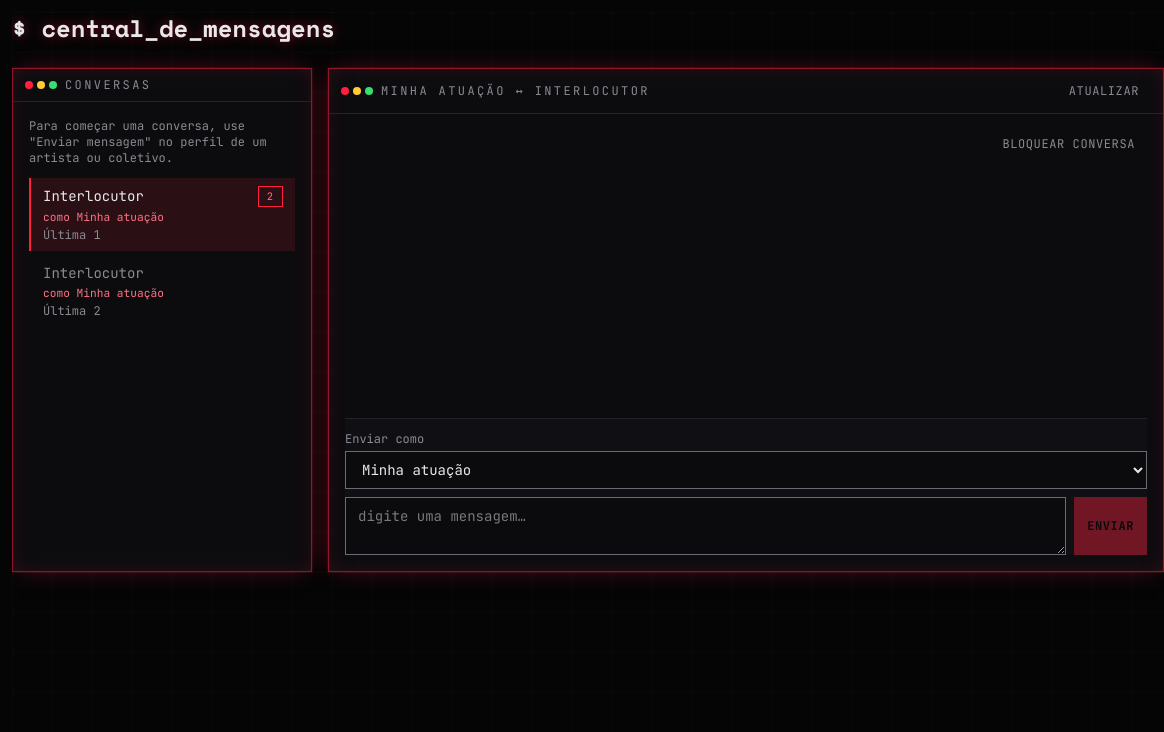
Chat › duas atuações do titular: escolhe com qual enviar
Select "Interlocutor" in the dropdown labelled "Enviar como" at (746, 470), box [345,451,1147,489]
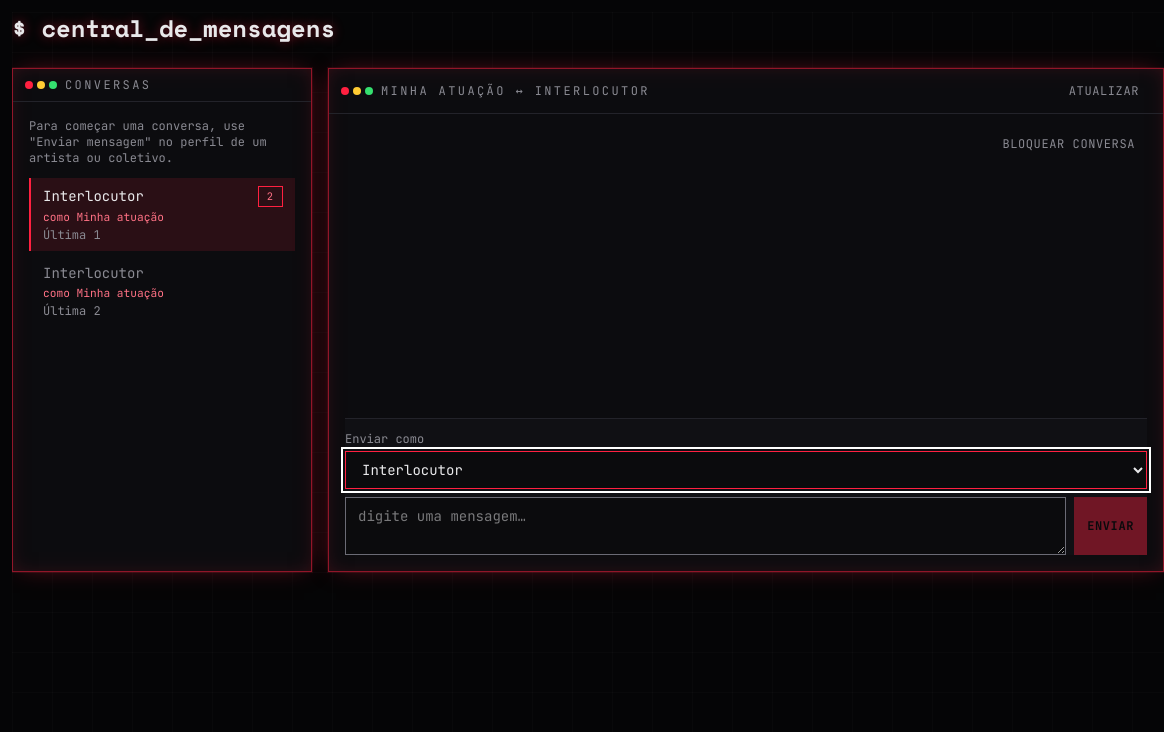
Type "Oi" into the text box named "Mensagem para" at (706, 526), box [345,497,1066,555]
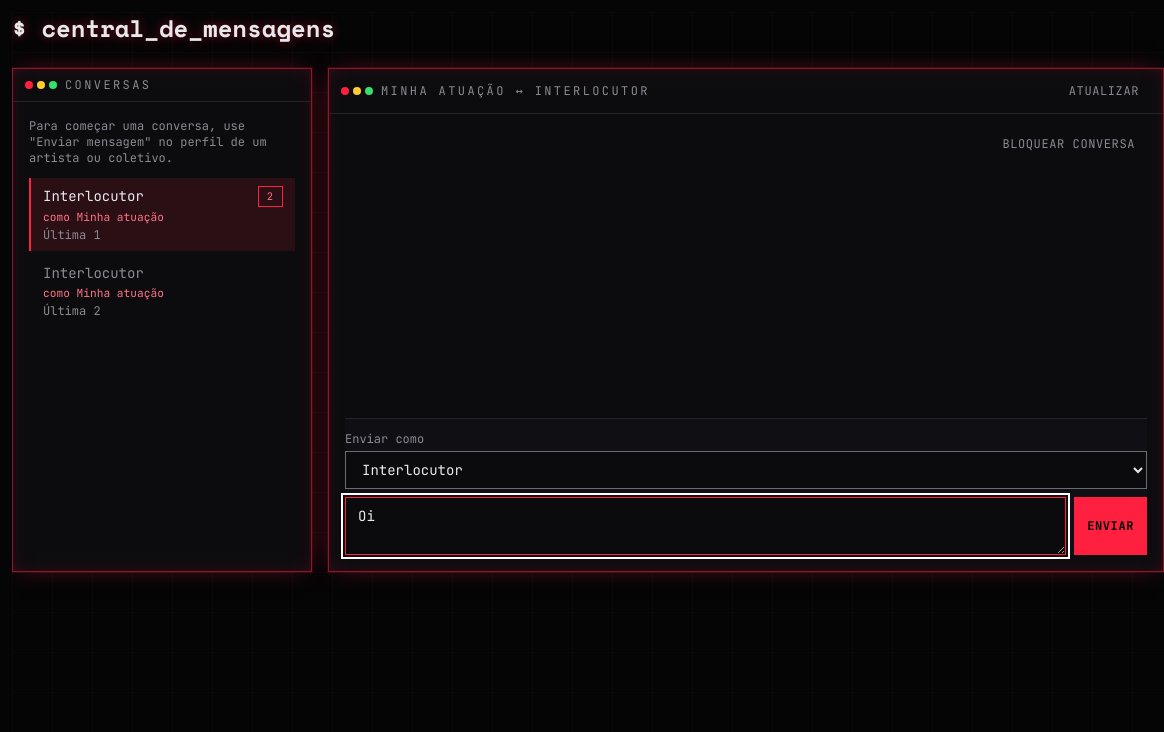
Click the button "enviar" at (1111, 526), box [1074,497,1147,555]
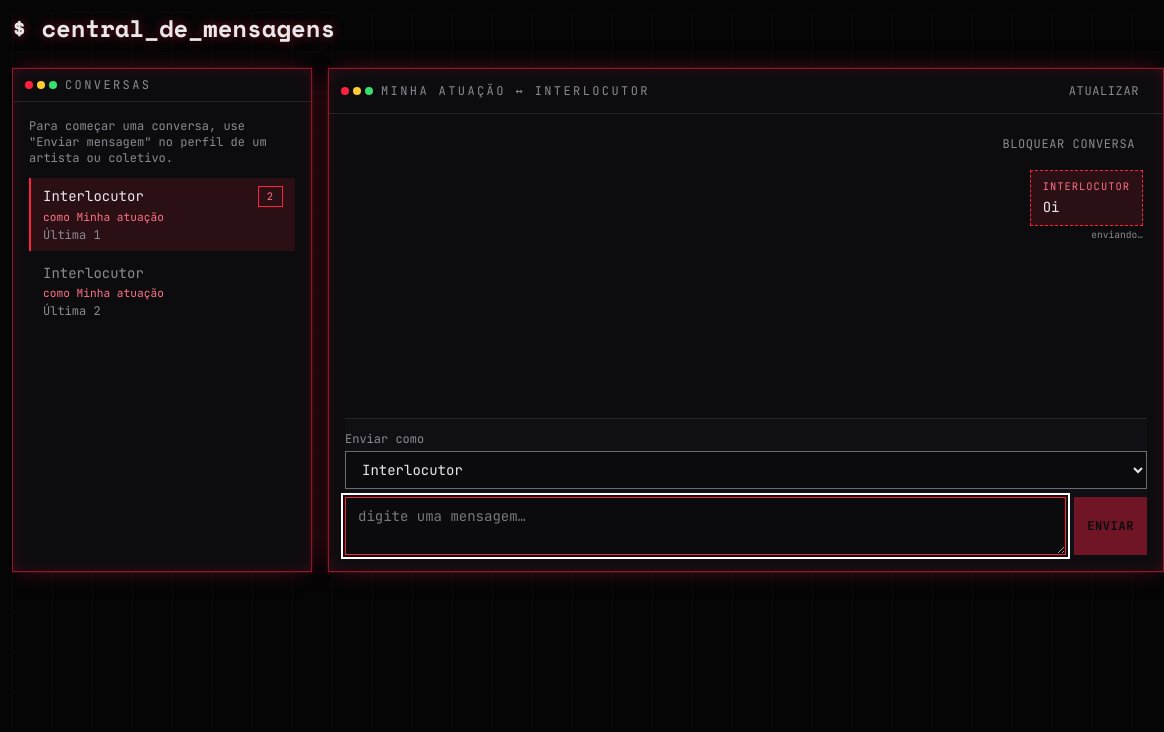
Expected: the 2nd text "Interlocutor" is shown, [1043,179,1130,195]
